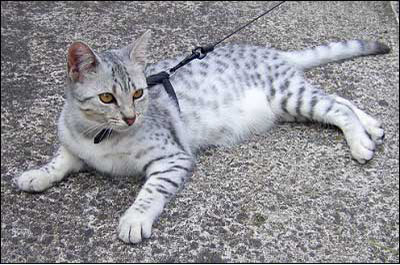cat: (64, 28, 153, 133)
